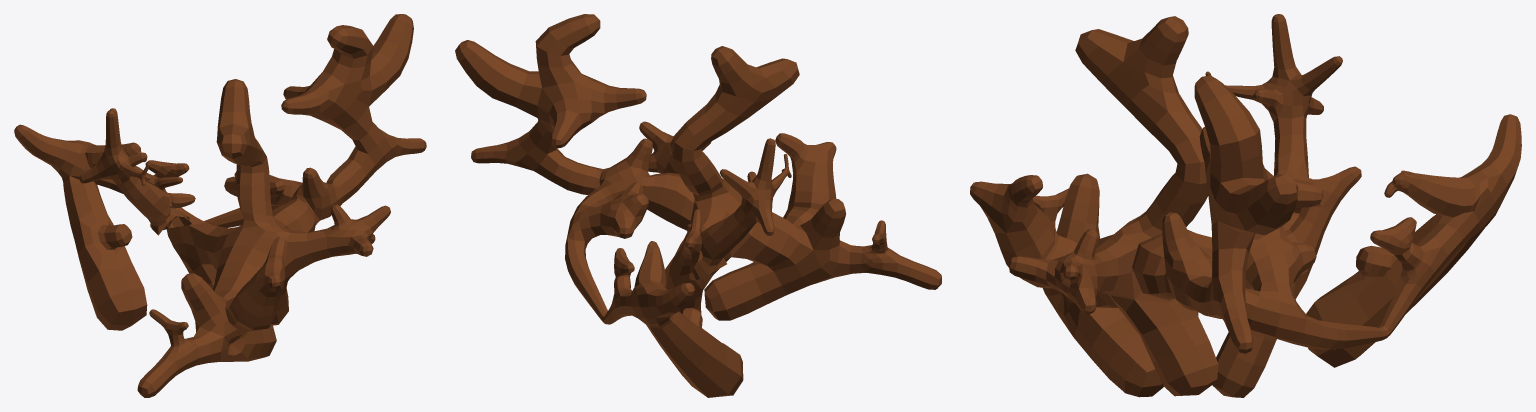
The model's file is dry_shrub1.fbx.
The picture shows the model from 3 angles, left to right: view 1: azimuth 30°, elevation 25°; view 2: azimuth 150°, elevation 25°; view 3: azimuth 270°, elevation 25°; orthographic projection. The views are drawn at different scales.
Parts seen in each view (by area): view 1: arbusto; view 2: arbusto; view 3: arbusto.
Boxes of the visible parts, x1=… form: arbusto: x1=14, y1=14, x2=426, y2=397; arbusto: x1=455, y1=14, x2=941, y2=397; arbusto: x1=970, y1=14, x2=1521, y2=397.
Size of the model in its own units: 214 by 162 by 203.
